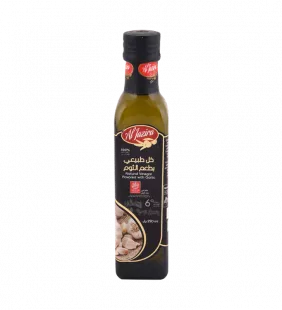AL JAZIRA: (107, 20, 180, 289)
